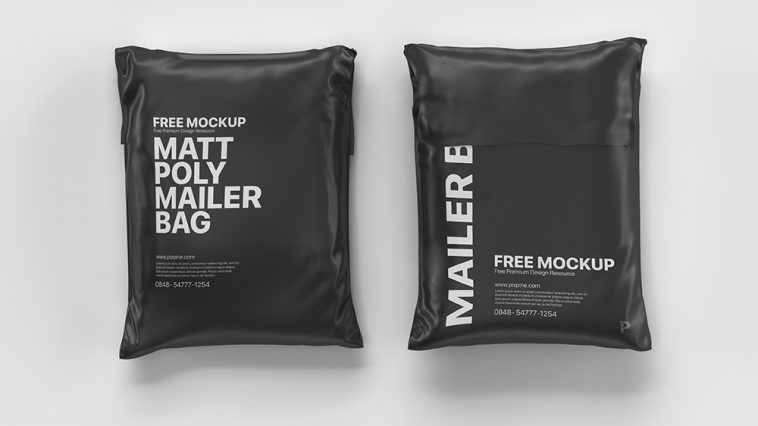Parcel: (114, 45, 361, 358), (404, 38, 650, 351)
